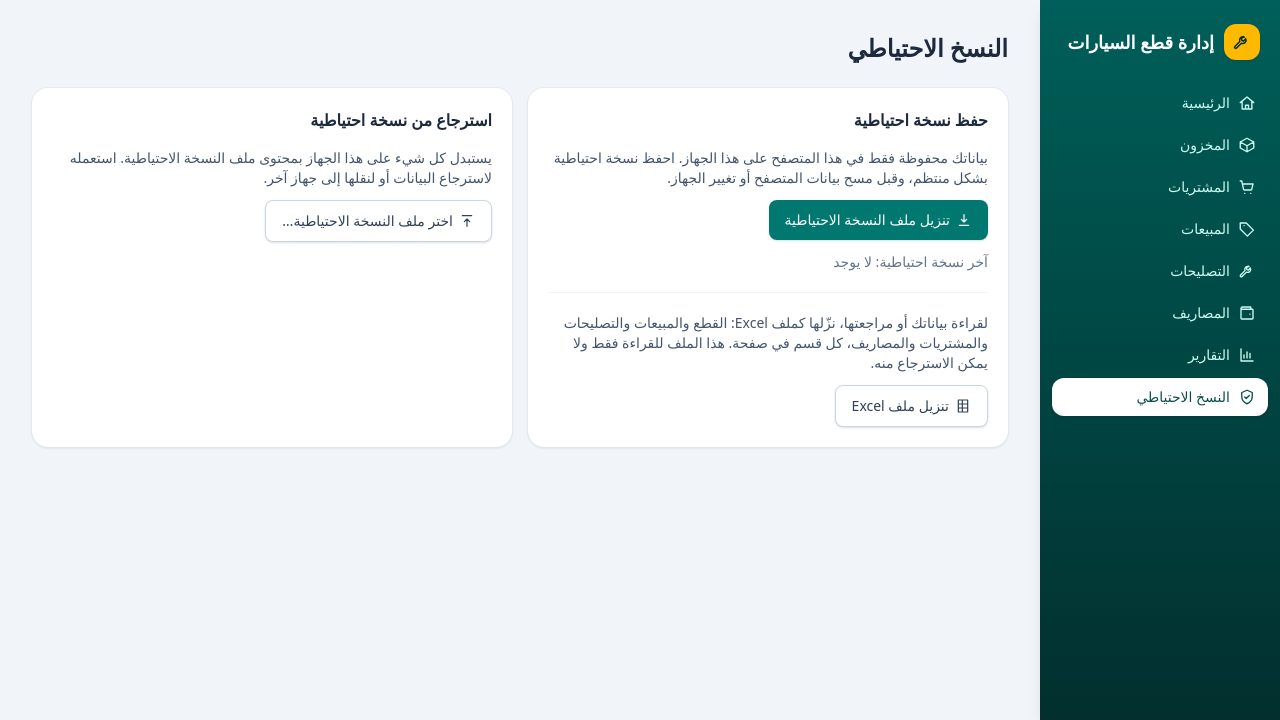
backup page › downloads the backup and the Excel file with today’s date in the name
Click the button "تنزيل ملف النسخة الاحتياطية".
click(878, 220)  # box [769,200,988,240]
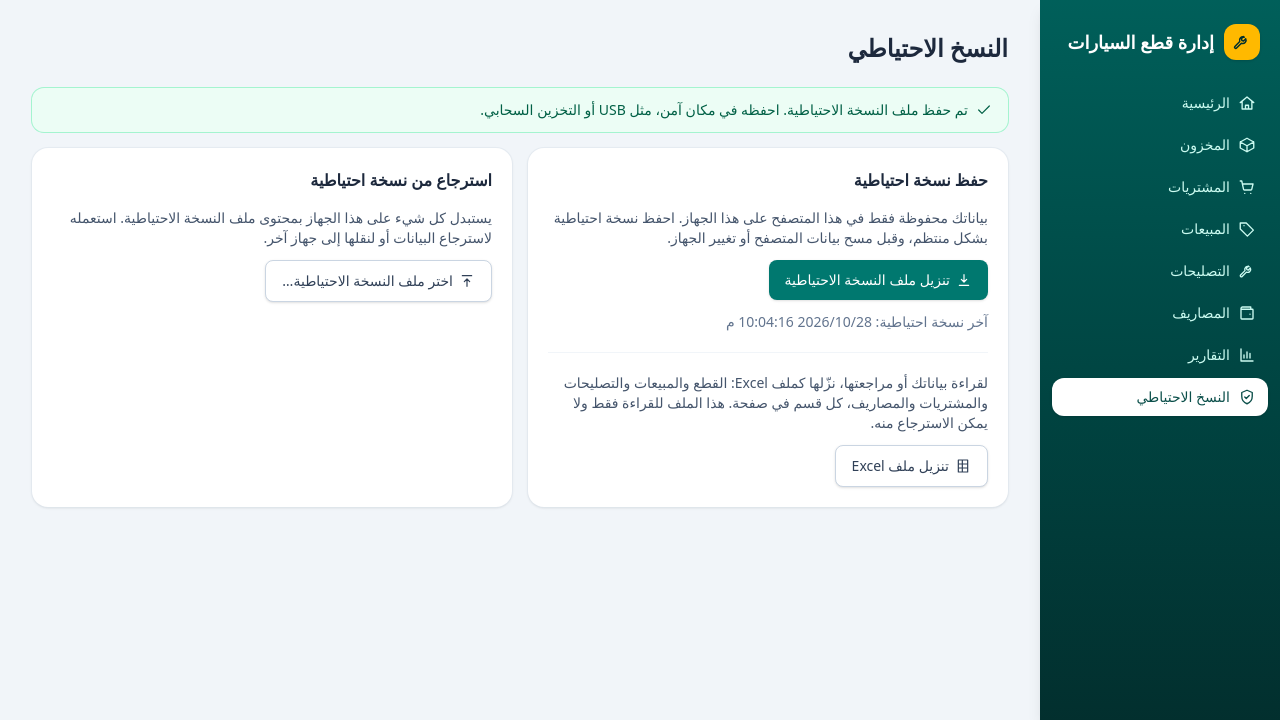
Expected: the text "تم حفظ ملف النسخة الاحتياطية" is shown, [480,100,968,119]
Expected: the text "آخر نسخة احتياطية:" no longer shows "لا يوجد"
Click the button "تنزيل ملف Excel".
click(911, 466)  # box [835,445,988,487]
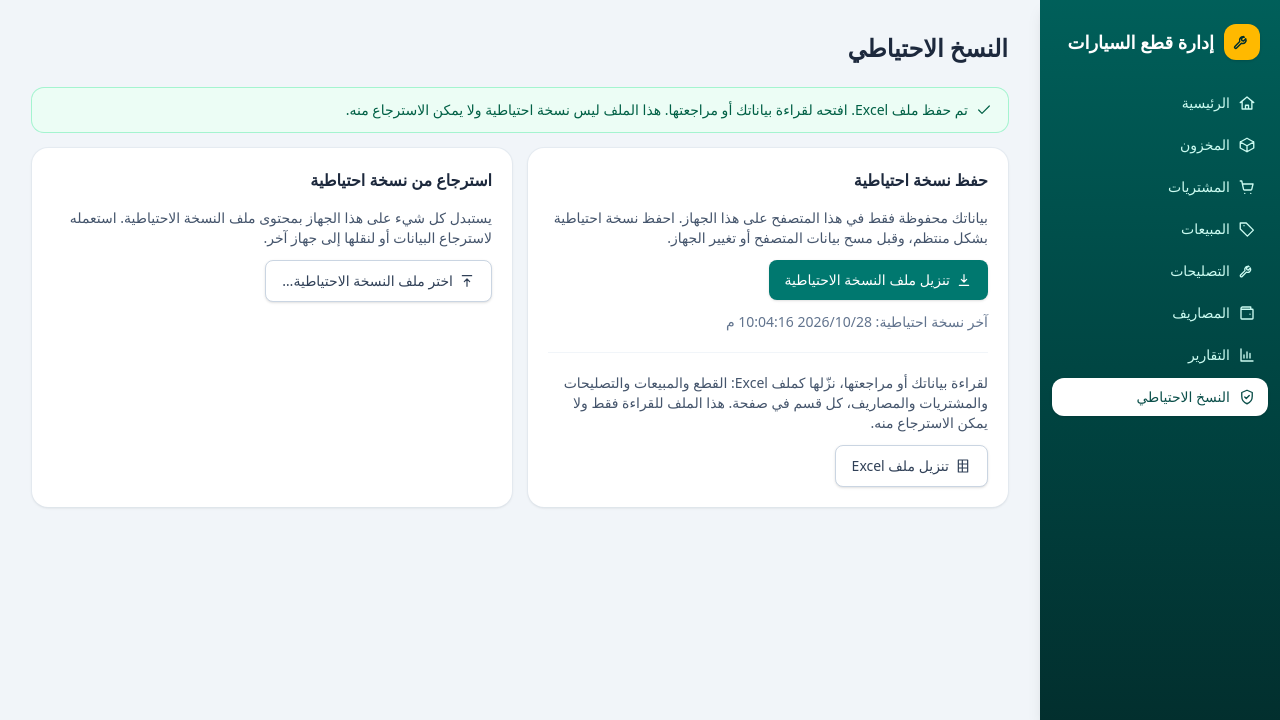
Expected: the text "تم حفظ ملف Excel" is shown, [346,100,968,119]
